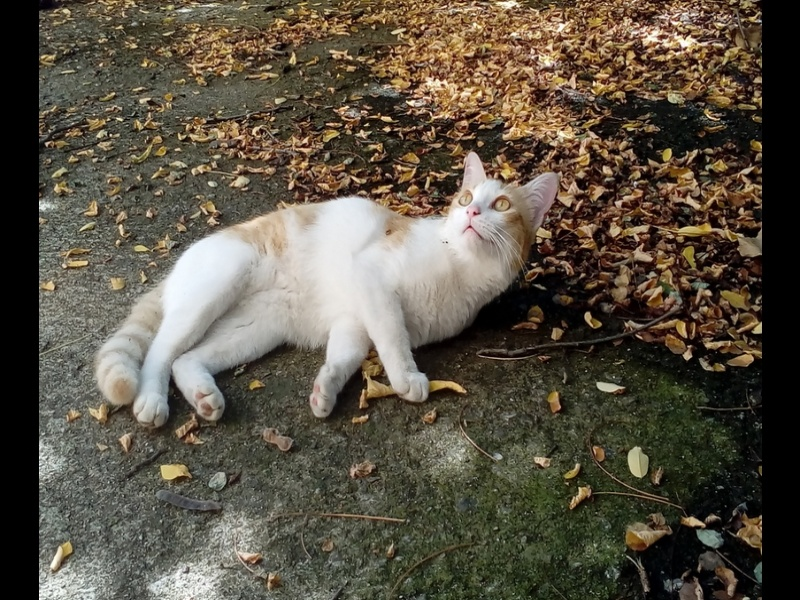cat: (94, 151, 563, 441)
